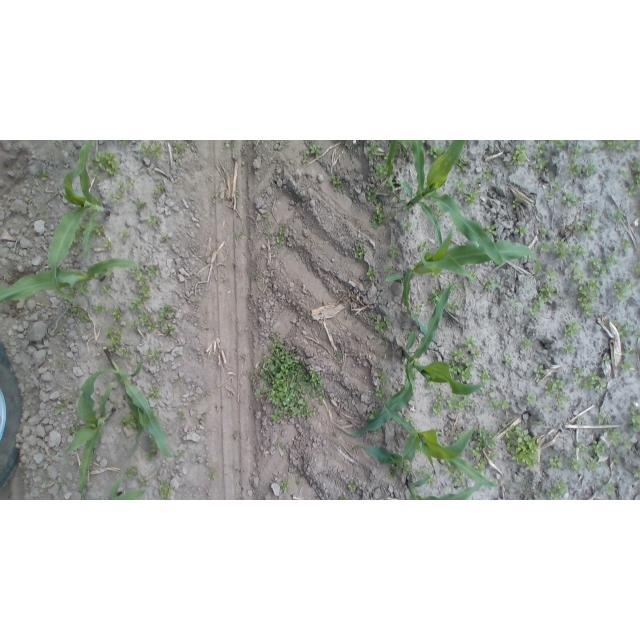Maize: (336, 281, 480, 440), (386, 220, 546, 333), (398, 141, 507, 268), (350, 411, 496, 477), (51, 141, 108, 300), (100, 351, 179, 461), (58, 360, 119, 500), (0, 261, 142, 303), (405, 472, 483, 500), (111, 473, 144, 499)
Weeds: (255, 338, 328, 425), (505, 424, 539, 471), (529, 283, 558, 317), (578, 278, 601, 316), (90, 151, 120, 177), (371, 335, 393, 361), (474, 427, 497, 451), (594, 475, 618, 497), (370, 203, 388, 230), (613, 280, 636, 301), (544, 181, 565, 202), (587, 211, 602, 240), (457, 357, 474, 382), (548, 481, 569, 500), (601, 140, 634, 152), (584, 374, 607, 391), (144, 435, 159, 461), (70, 305, 91, 323), (106, 327, 123, 349), (352, 239, 368, 262), (485, 397, 511, 411), (588, 256, 605, 277), (132, 196, 149, 217), (602, 250, 618, 272), (373, 315, 391, 334), (618, 357, 639, 373), (446, 395, 470, 409), (532, 141, 549, 160), (160, 305, 177, 324), (615, 321, 634, 338), (133, 268, 148, 289), (563, 321, 580, 339), (545, 378, 564, 394), (555, 239, 570, 259), (432, 390, 444, 415), (513, 144, 528, 164), (627, 407, 638, 434), (571, 262, 585, 283), (159, 480, 173, 500), (123, 413, 140, 429), (572, 364, 584, 386), (419, 468, 435, 484), (606, 429, 622, 445), (66, 417, 79, 436), (522, 479, 535, 498), (377, 369, 392, 385), (445, 299, 459, 316), (591, 442, 605, 459), (139, 312, 153, 329), (57, 360, 72, 375), (277, 222, 286, 247), (365, 187, 379, 203), (401, 462, 415, 478), (501, 353, 515, 369), (118, 227, 132, 243), (427, 288, 441, 304), (563, 193, 579, 207), (174, 141, 191, 154), (250, 266, 263, 283), (118, 347, 135, 360), (428, 146, 445, 159), (261, 223, 273, 241), (298, 147, 310, 165), (442, 462, 460, 474), (206, 463, 218, 481), (452, 473, 467, 487), (476, 368, 490, 383), (372, 388, 388, 401), (125, 465, 138, 481), (330, 175, 343, 191), (487, 450, 504, 462), (92, 302, 109, 314), (475, 457, 487, 474), (631, 258, 640, 280), (507, 295, 521, 309), (548, 455, 562, 469), (464, 191, 478, 205), (450, 348, 464, 362), (485, 277, 499, 291), (58, 479, 71, 494), (333, 348, 346, 363), (626, 183, 639, 198), (602, 353, 615, 368), (230, 428, 242, 444), (483, 166, 495, 182), (367, 141, 379, 157), (108, 191, 124, 203), (139, 142, 150, 159), (401, 219, 414, 233), (176, 409, 189, 423), (536, 159, 549, 173), (534, 364, 547, 378), (221, 140, 236, 152), (623, 345, 638, 357), (519, 338, 534, 350), (572, 245, 587, 257), (576, 441, 588, 456), (375, 164, 387, 179), (126, 176, 137, 192), (618, 168, 631, 181), (470, 348, 483, 361), (546, 269, 559, 282), (571, 145, 584, 158), (612, 210, 625, 223), (235, 228, 247, 242), (346, 477, 358, 491), (389, 243, 401, 257), (54, 400, 66, 414), (457, 158, 468, 173), (631, 463, 640, 481), (279, 478, 289, 494), (552, 140, 568, 150), (401, 202, 413, 215), (572, 220, 584, 233), (484, 224, 497, 236), (464, 336, 477, 348), (149, 144, 161, 157), (538, 240, 551, 252), (130, 299, 142, 312), (103, 239, 114, 253), (621, 238, 632, 252), (367, 267, 378, 281), (433, 210, 445, 222), (568, 459, 580, 471), (587, 458, 599, 470), (538, 227, 551, 238), (112, 308, 123, 321), (569, 162, 580, 175), (557, 396, 570, 407), (140, 286, 151, 299), (564, 342, 575, 355), (294, 472, 304, 486), (597, 413, 611, 423), (622, 438, 633, 450), (101, 283, 113, 294), (148, 350, 160, 361), (349, 192, 359, 205), (585, 163, 595, 176), (93, 223, 103, 236), (481, 386, 495, 395), (170, 377, 181, 388), (369, 409, 380, 420), (173, 156, 183, 168), (510, 197, 520, 209), (218, 259, 230, 269), (525, 393, 537, 403), (516, 226, 528, 236), (76, 286, 88, 296), (612, 452, 621, 465), (220, 273, 231, 283), (150, 389, 161, 399), (310, 144, 321, 154), (232, 188, 241, 200), (292, 192, 301, 204), (634, 171, 640, 189), (238, 352, 250, 361), (160, 231, 169, 243), (149, 215, 158, 227), (631, 158, 638, 173), (460, 293, 470, 303), (452, 285, 462, 295), (164, 325, 174, 335), (261, 211, 270, 222), (270, 177, 279, 188), (130, 319, 139, 330), (154, 185, 165, 194), (118, 181, 127, 192), (138, 478, 147, 489), (453, 430, 464, 439), (383, 266, 393, 275), (174, 349, 184, 358), (458, 181, 467, 191), (504, 160, 512, 171), (632, 329, 640, 340), (245, 294, 254, 303), (274, 438, 283, 447), (282, 140, 291, 149), (420, 242, 429, 251), (178, 448, 188, 456), (149, 265, 157, 275), (338, 493, 349, 500), (592, 144, 600, 153), (470, 270, 479, 278), (414, 302, 423, 310), (52, 329, 59, 338), (122, 141, 131, 146), (389, 214, 395, 221), (474, 179, 481, 185), (635, 209, 640, 217)
